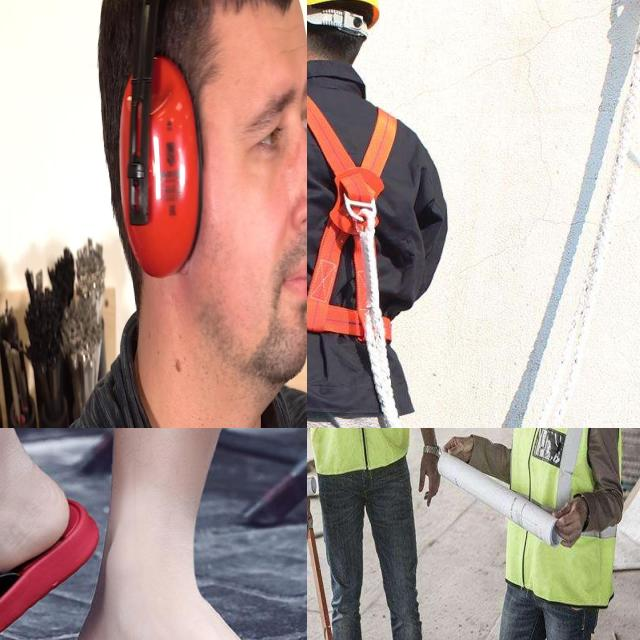Ear-protection: (104, 24, 223, 304)
Harness: (307, 86, 405, 339)
No_Glasses: (227, 64, 307, 176)
hand_noglove: (551, 488, 592, 557), (416, 437, 442, 509), (442, 434, 473, 472), (307, 485, 318, 542)
head_nohelmet: (78, 0, 307, 74)
person: (85, 0, 307, 428), (420, 428, 603, 640), (307, 428, 438, 640)
vest: (504, 428, 619, 604)
